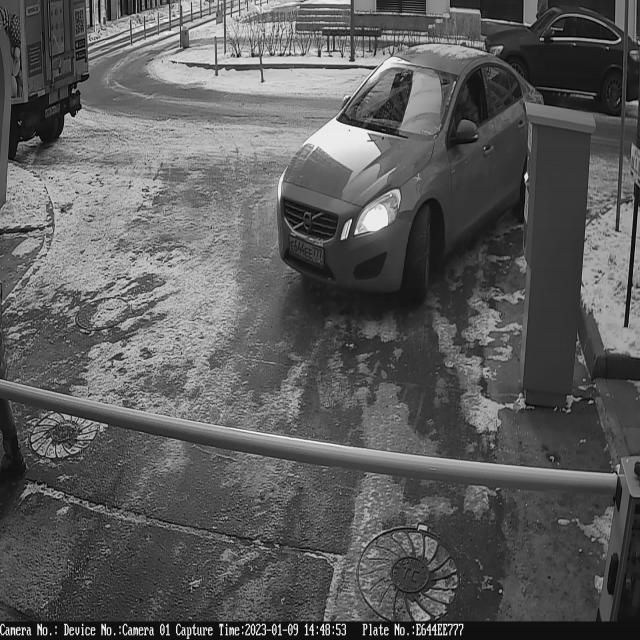car-plate-numbers: (287, 230, 326, 271)
